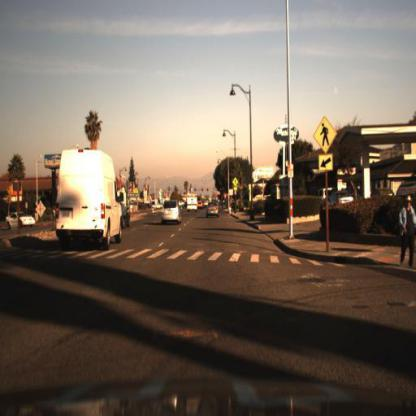car: (53, 147, 125, 255), (325, 187, 357, 220), (161, 200, 184, 229), (329, 187, 358, 210), (4, 213, 38, 231), (203, 200, 223, 224), (121, 196, 132, 234), (184, 195, 200, 216), (188, 193, 199, 212)
pedestrian: (399, 195, 416, 271)
truck: (53, 137, 129, 251), (185, 194, 200, 219)
